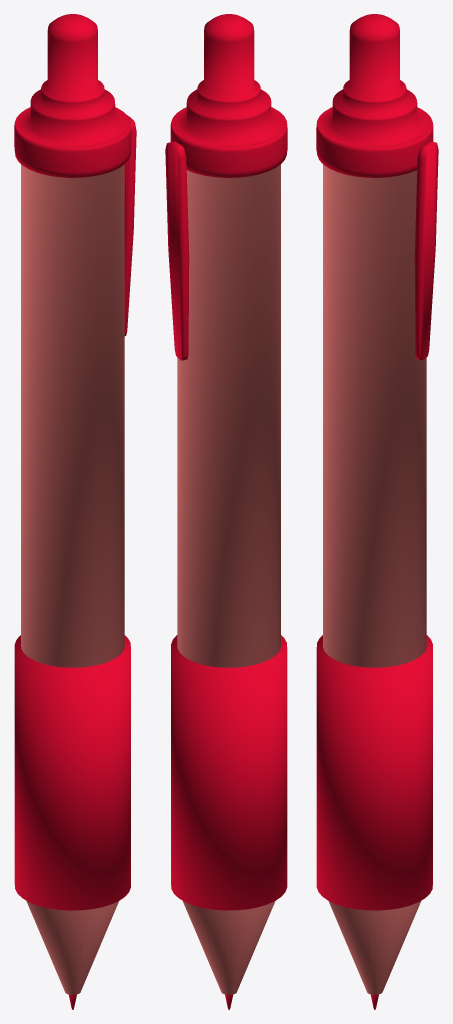
File: boliVERDADERO.fbx
3 views of the same model, side by side, from view 1: azimuth 30°, elevation 25°; view 2: azimuth 210°, elevation 25°; view 3: azimuth 330°, elevation 25° (orthographic).
Visible parts, largest first — view 1: boli; view 2: boli; view 3: boli.
Boxes of the visible parts, x1,y1,x2,y2 form: boli: (14,14,136,1009); boli: (165,14,287,1009); boli: (316,14,438,1009).
Size of the model in its own units: 32.32 by 283 by 30.34.
